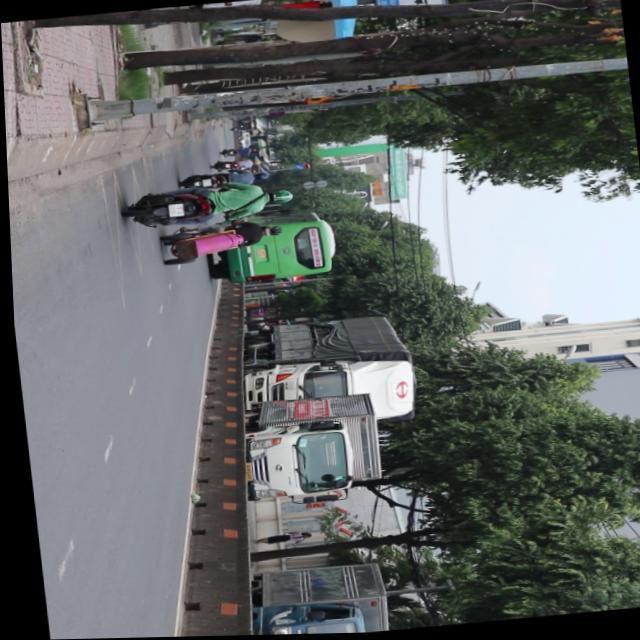helmet: (265, 189, 292, 206)
licenseplate: (119, 178, 295, 233)
nohelmet: (167, 203, 183, 217)
